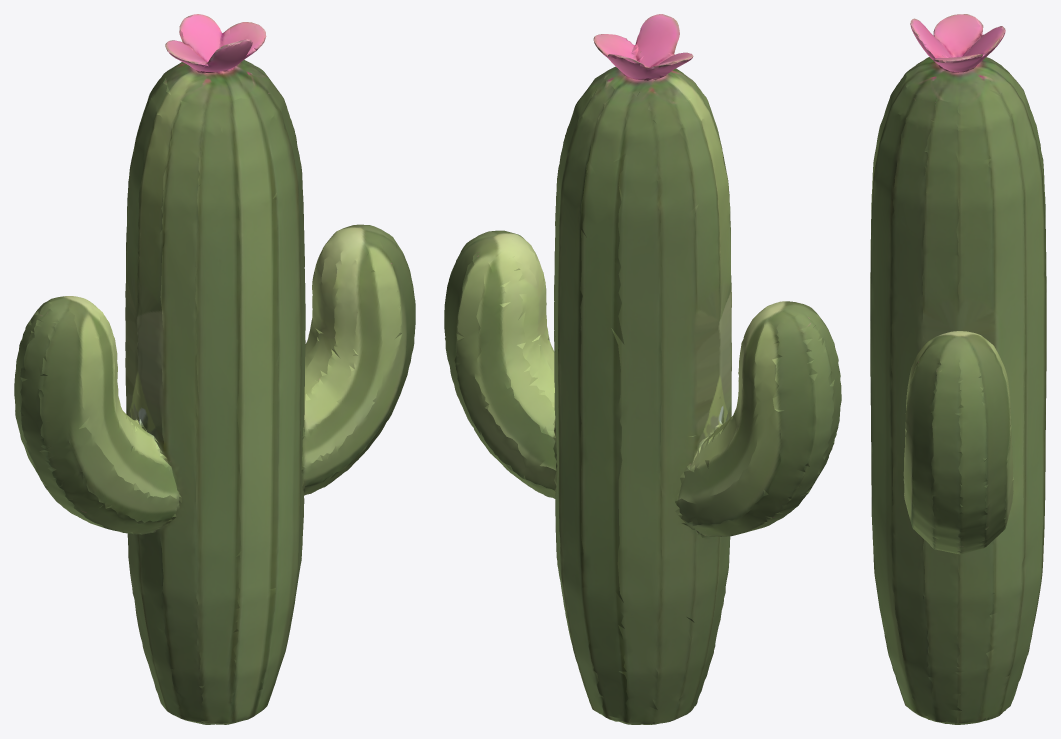
File: cactus.glb
The picture shows the model from 3 angles, left to right: view 1: azimuth 30°, elevation 25°; view 2: azimuth 150°, elevation 25°; view 3: azimuth 270°, elevation 25°; orthographic projection.
Parts seen in each view (by area): view 1: cactus; view 2: cactus; view 3: cactus.
Part boxes in pixels (box(x1,y1,x2,y2)): cactus: box(14, 14, 415, 724); cactus: box(444, 14, 841, 724); cactus: box(870, 14, 1046, 724).
Bounding box in the file's own units: 0.5943 × 1 × 0.2341.
1 material, 1 textured.
